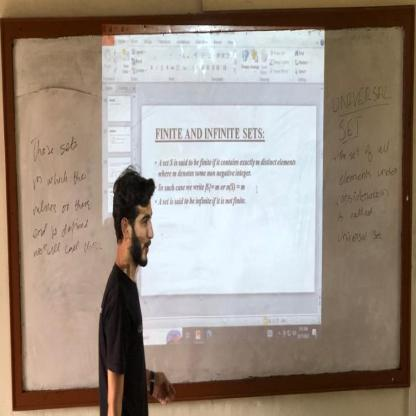Handwritten text: (328, 155, 404, 189), (24, 123, 82, 167), (334, 130, 399, 165), (328, 78, 394, 110), (335, 216, 387, 251), (331, 182, 396, 208), (30, 194, 95, 216), (30, 167, 92, 189), (30, 218, 91, 239), (334, 203, 380, 225), (337, 113, 364, 139)
Lecturer: (96, 162, 176, 403)
Whiteboard: (7, 16, 406, 404)
